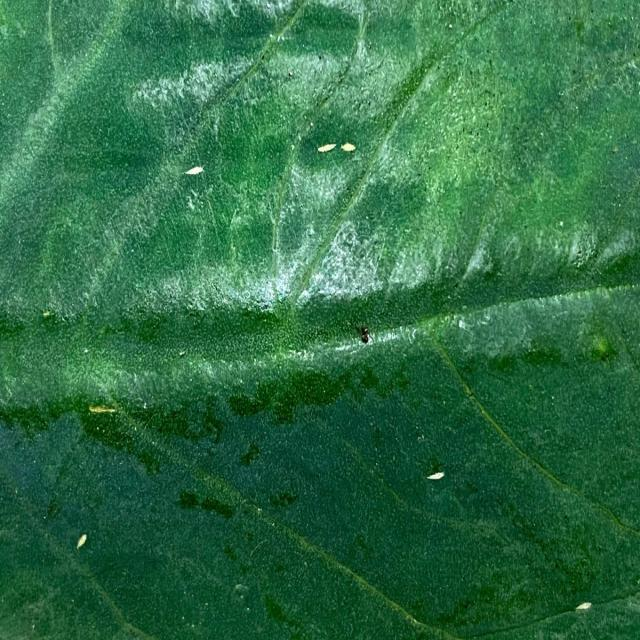Thrips: (178, 149, 223, 198), (416, 454, 462, 497), (76, 393, 129, 430), (64, 519, 100, 565), (306, 129, 341, 175), (331, 128, 361, 167), (568, 596, 597, 620)
